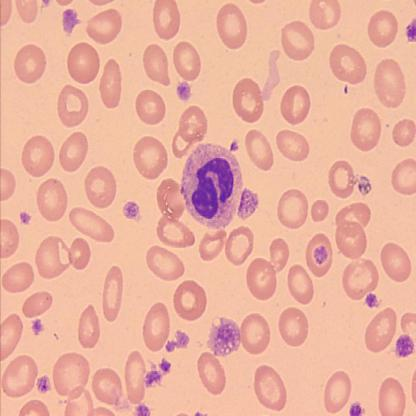Segmented neutrophil: (179, 140, 260, 231)
